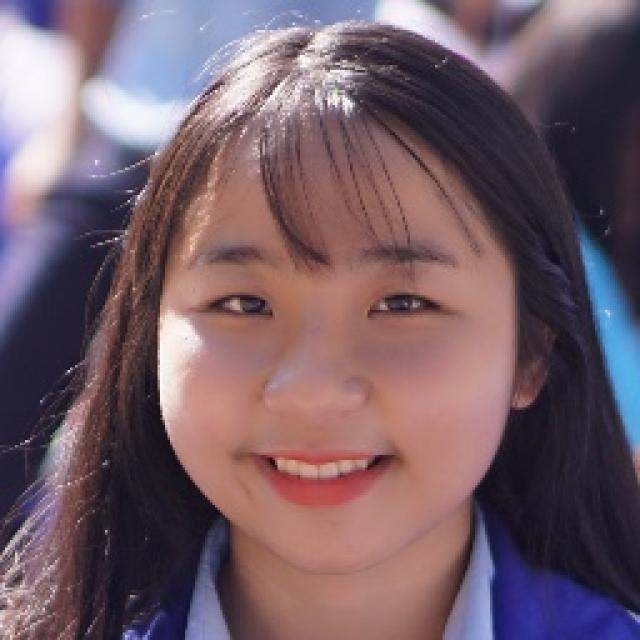earlobe: (511, 267, 566, 407)
